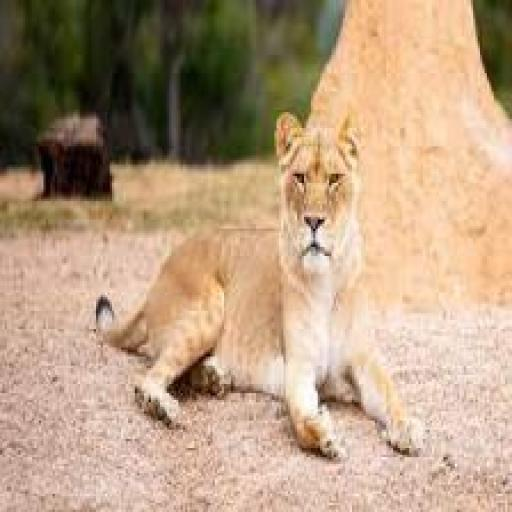lion: (128, 110, 365, 451)
